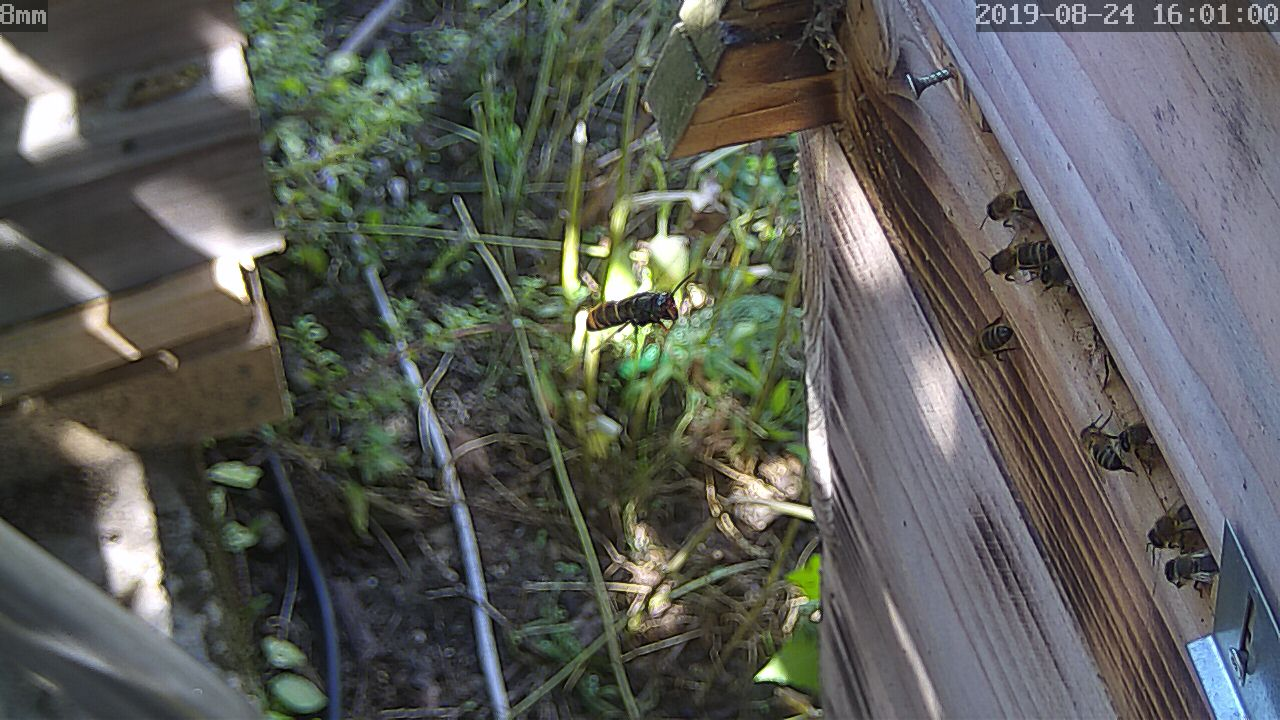bee: (979, 237, 1057, 291), (1073, 415, 1127, 478), (958, 312, 1019, 367), (1161, 553, 1225, 598), (1150, 500, 1197, 554), (986, 193, 1043, 226)
hornet: (571, 275, 685, 342)
